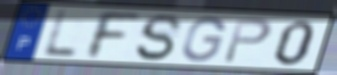0: (272, 19, 318, 67)
F: (85, 9, 143, 61)
G: (179, 16, 228, 64)
L: (40, 9, 79, 59)
P: (221, 16, 274, 65)
S: (133, 12, 185, 62)
